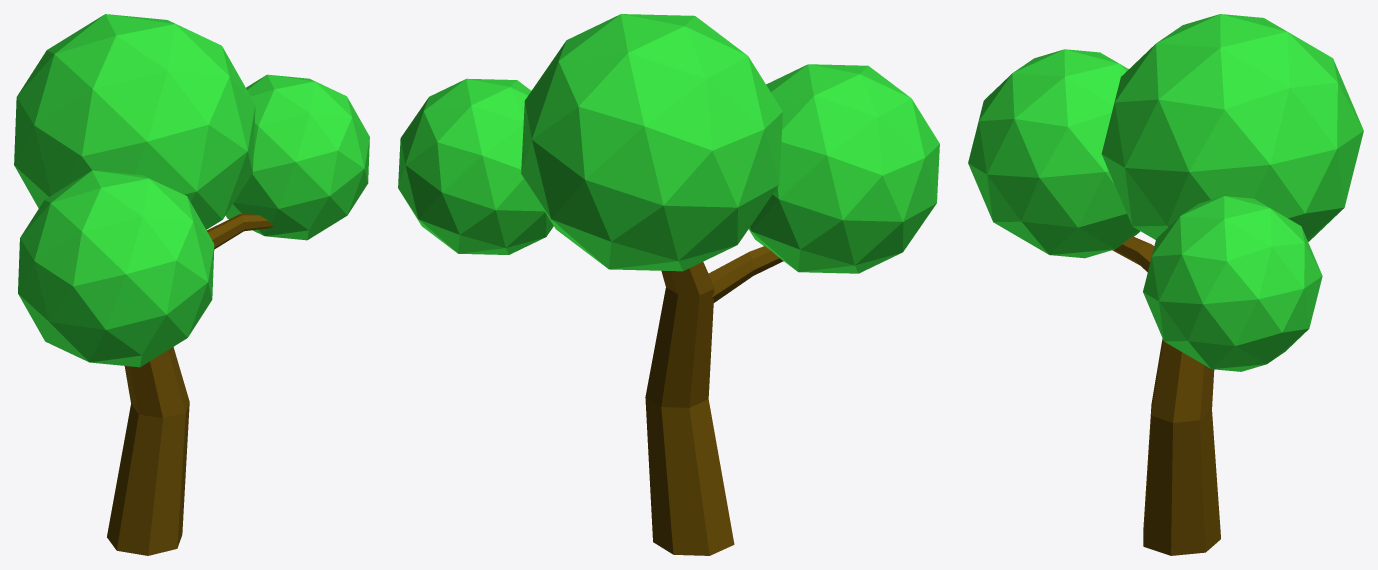
The model's file is tree1.glb.
3 renders of one model, left to right at view 1: azimuth 30°, elevation 25°; view 2: azimuth 150°, elevation 25°; view 3: azimuth 270°, elevation 25°, orthographic. The views are drawn at different scales.
Visible parts, largest first — view 1: Icosphere.002, Cylinder.008; view 2: Icosphere.002, Cylinder.008; view 3: Icosphere.002, Cylinder.008.
Boxes of the visible parts, bbox=[...] form: Icosphere.002: bbox=[14, 14, 369, 367]; Cylinder.008: bbox=[107, 214, 273, 555]; Icosphere.002: bbox=[398, 14, 939, 273]; Cylinder.008: bbox=[645, 246, 783, 555]; Icosphere.002: bbox=[968, 14, 1363, 371]; Cylinder.008: bbox=[1112, 236, 1220, 555].
Size of the model in its own units: 5.39 by 6.35 by 4.38.
